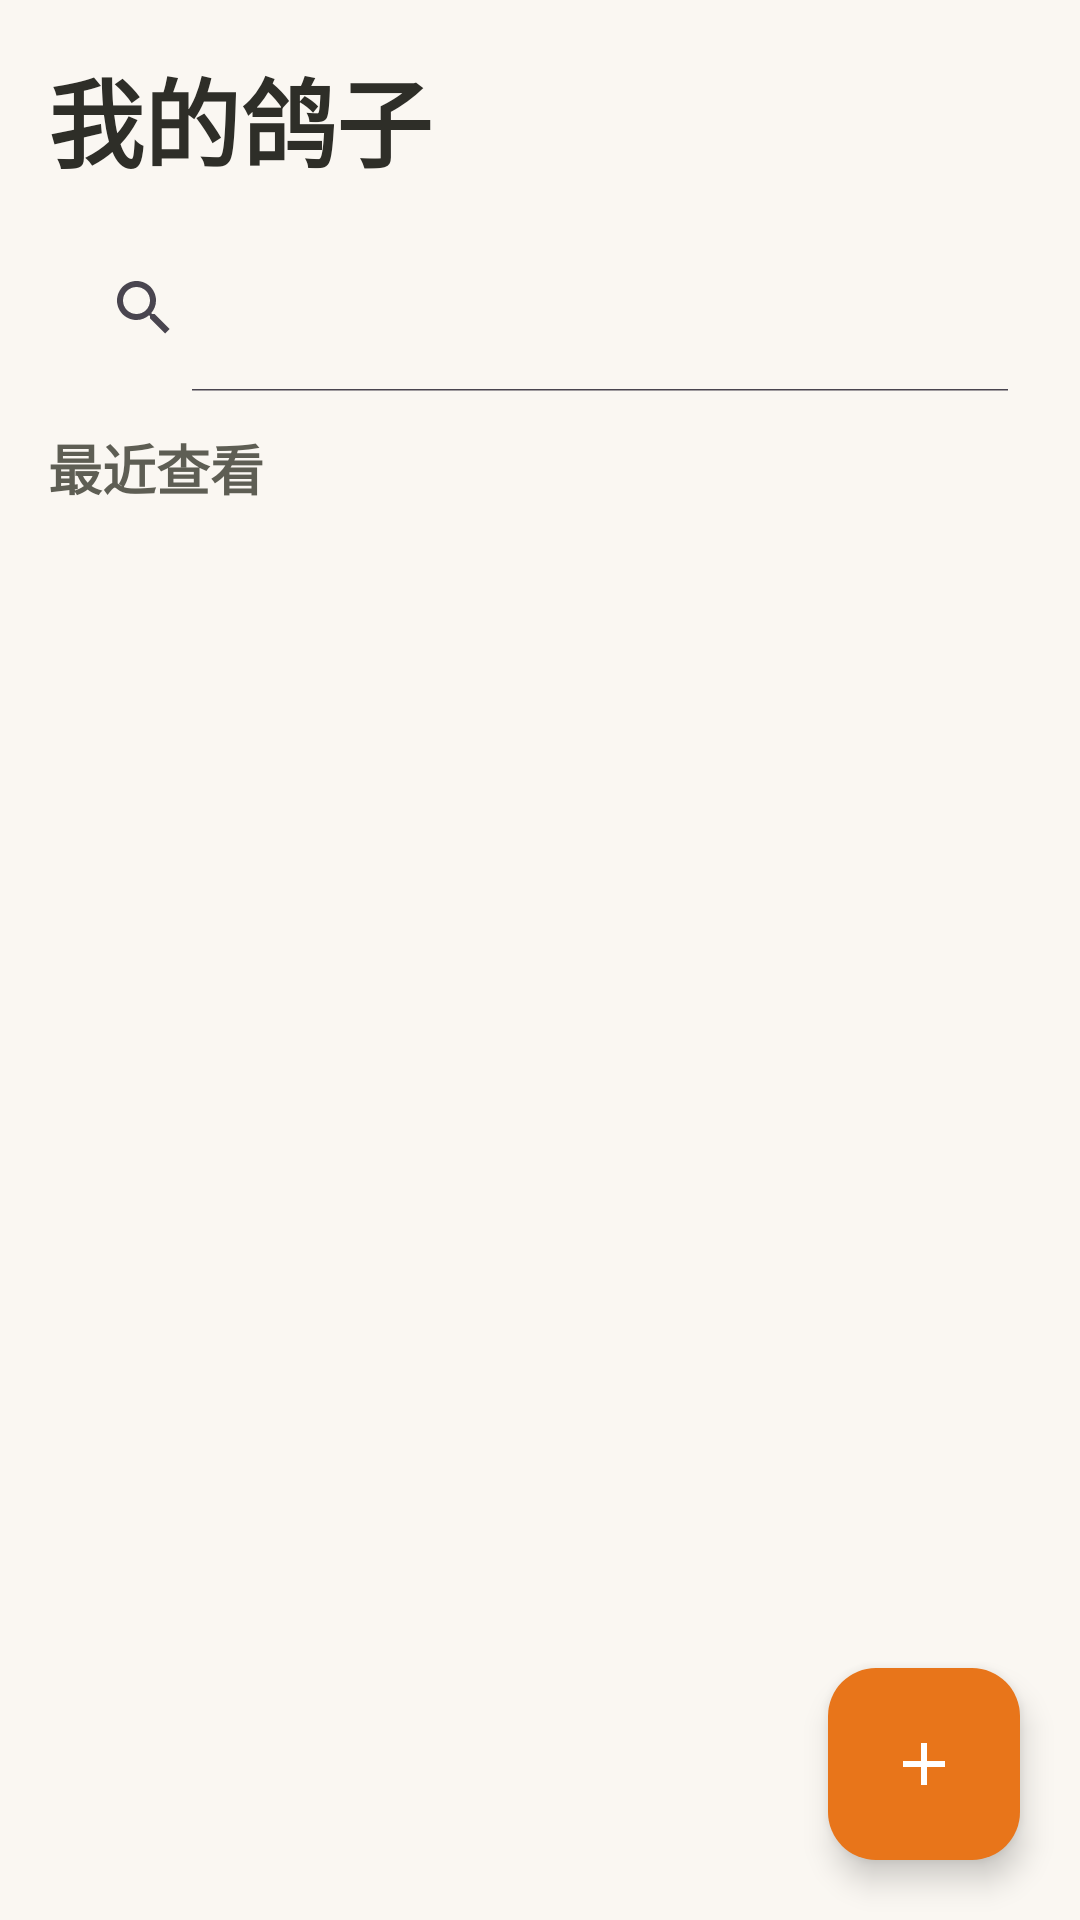

Screen size 1080x1920. Icon name, then its center in pixels as (x=x, y=y):
添加鸽子: (x=924, y=1764)
